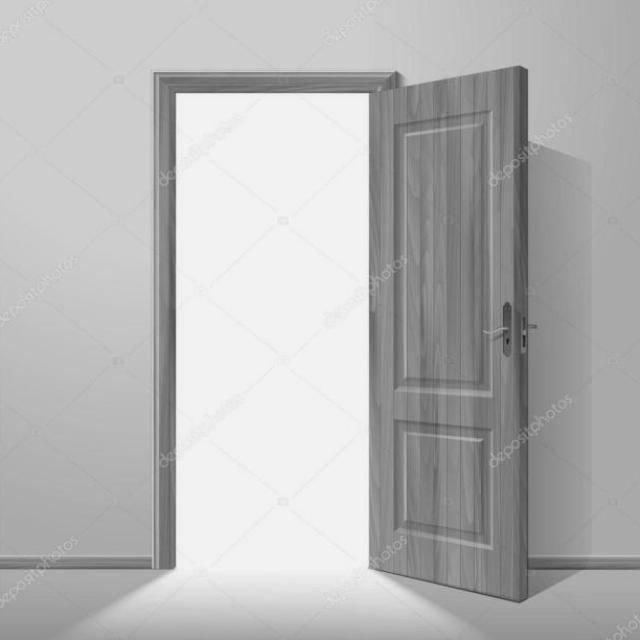door: (362, 56, 528, 608)
